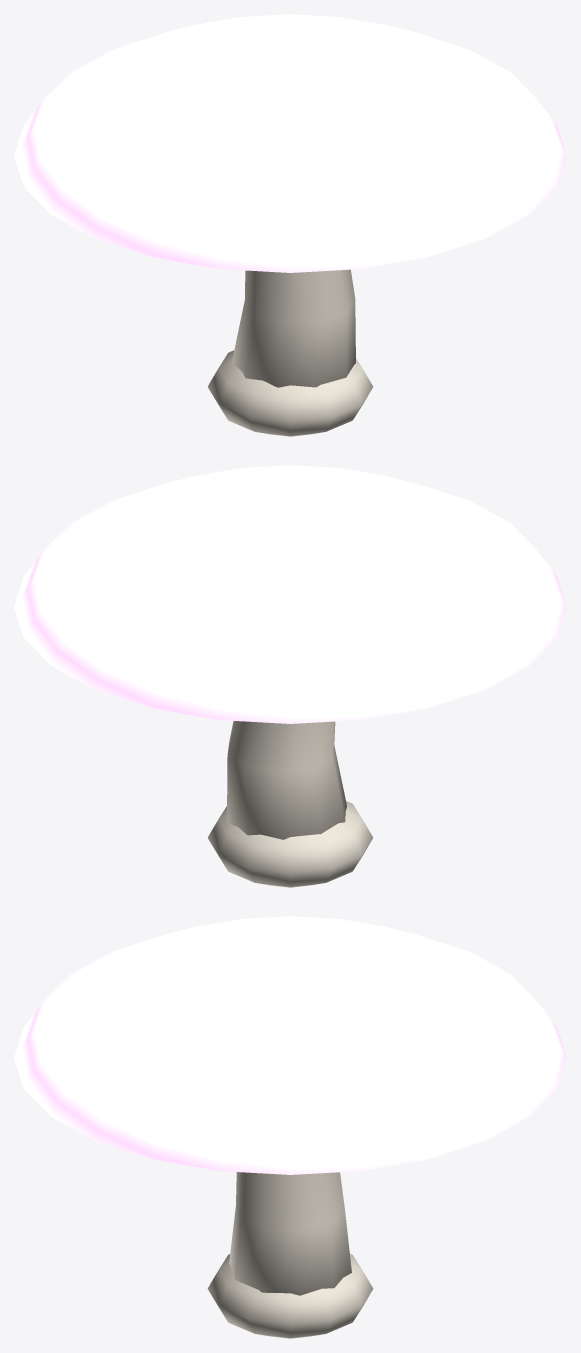
Rendered from mushroom.glb.
3 views of the same model, one above another, from view 1: azimuth 30°, elevation 25°; view 2: azimuth 150°, elevation 25°; view 3: azimuth 270°, elevation 25° (orthographic).
Parts seen in each view (by area): view 1: cap, stem; view 2: cap, stem; view 3: cap, stem.
Part boxes in pixels (x1,y1,x2,y2): cap: [14, 14, 566, 272]; stem: [207, 269, 373, 436]; cap: [14, 465, 566, 723]; stem: [207, 721, 373, 887]; cap: [14, 916, 566, 1174]; stem: [207, 1172, 373, 1338].
Size of what is drawn, in the model's own units: 2 by 1.41 by 2.
